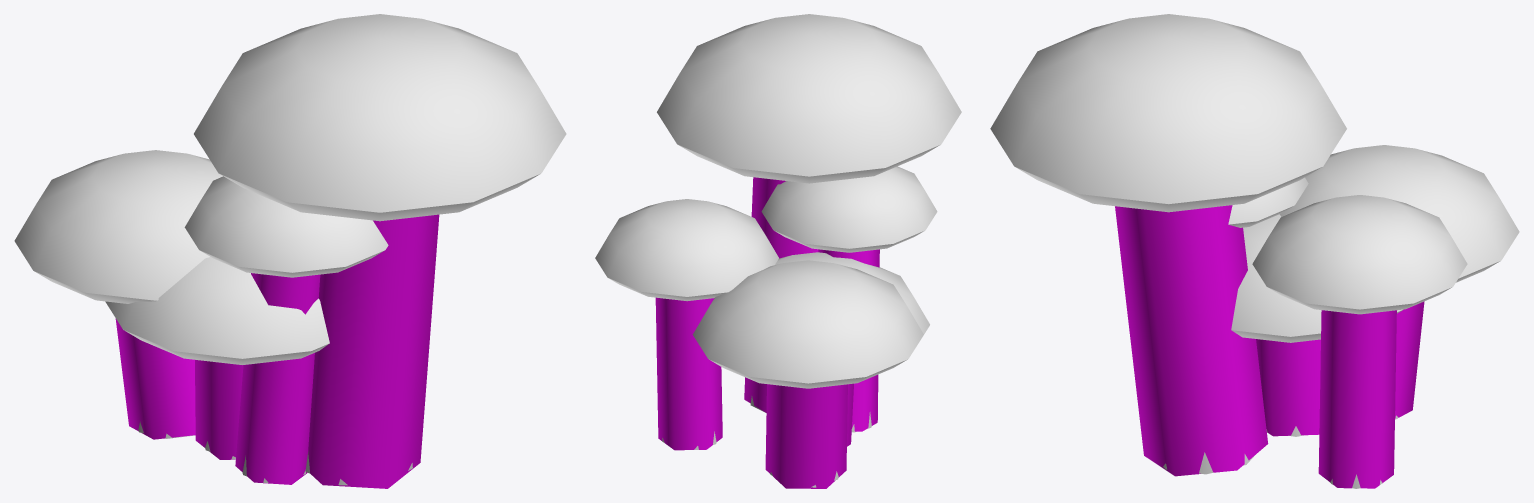
File: mushroom_giant.glb
3 views of the same model, side by side, from view 1: azimuth 30°, elevation 25°; view 2: azimuth 150°, elevation 25°; view 3: azimuth 270°, elevation 25° (orthographic). The views are drawn at different scales.
Parts seen in each view (by area): view 1: mushroom_giant, mushroom_giant_hull; view 2: mushroom_giant, mushroom_giant_hull; view 3: mushroom_giant, mushroom_giant_hull.
Part boxes in pixels (x1,y1,x2,y2): mushroom_giant: (14, 14, 566, 485); mushroom_giant_hull: (115, 214, 439, 488); mushroom_giant: (595, 14, 961, 487); mushroom_giant_hull: (655, 177, 879, 488); mushroom_giant: (990, 14, 1519, 488); mushroom_giant_hull: (1115, 205, 1424, 488).
Bounding box in the file's own units: 6.12 × 6.49 × 7.42.
